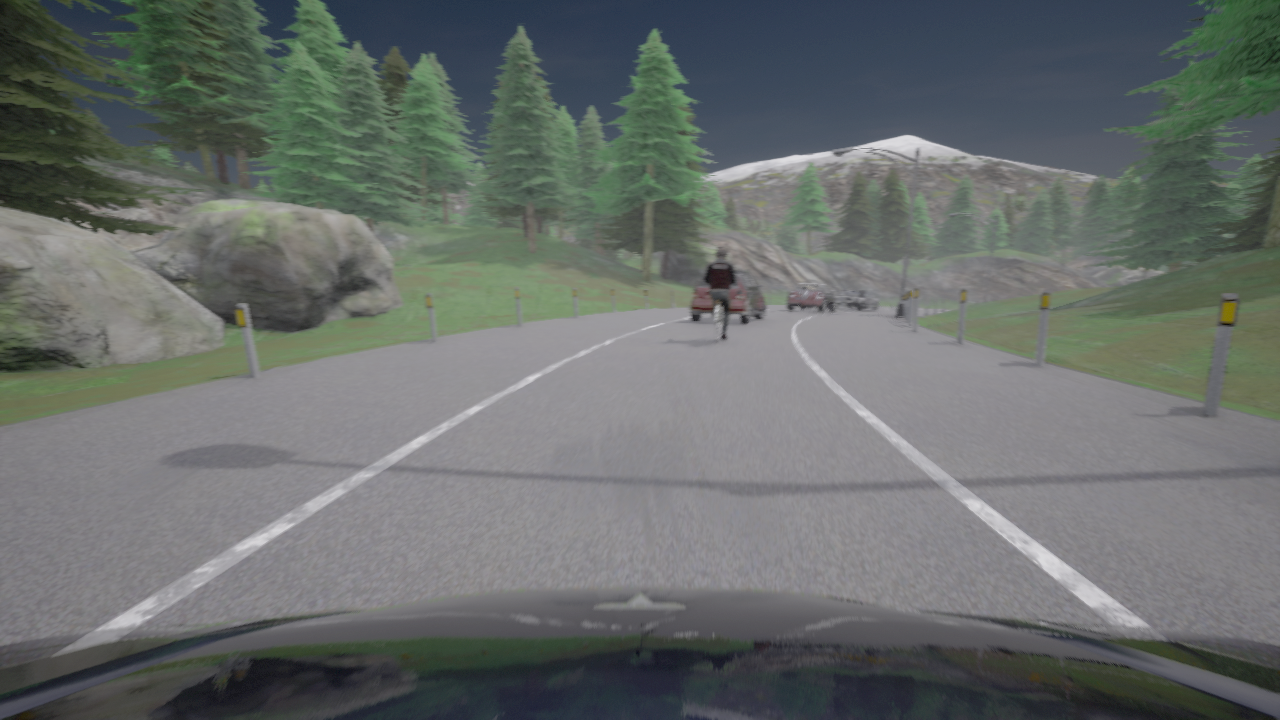cyclist: (0, 588, 1279, 719), (689, 270, 765, 324), (787, 283, 836, 312), (836, 290, 879, 310), (712, 301, 726, 344)
